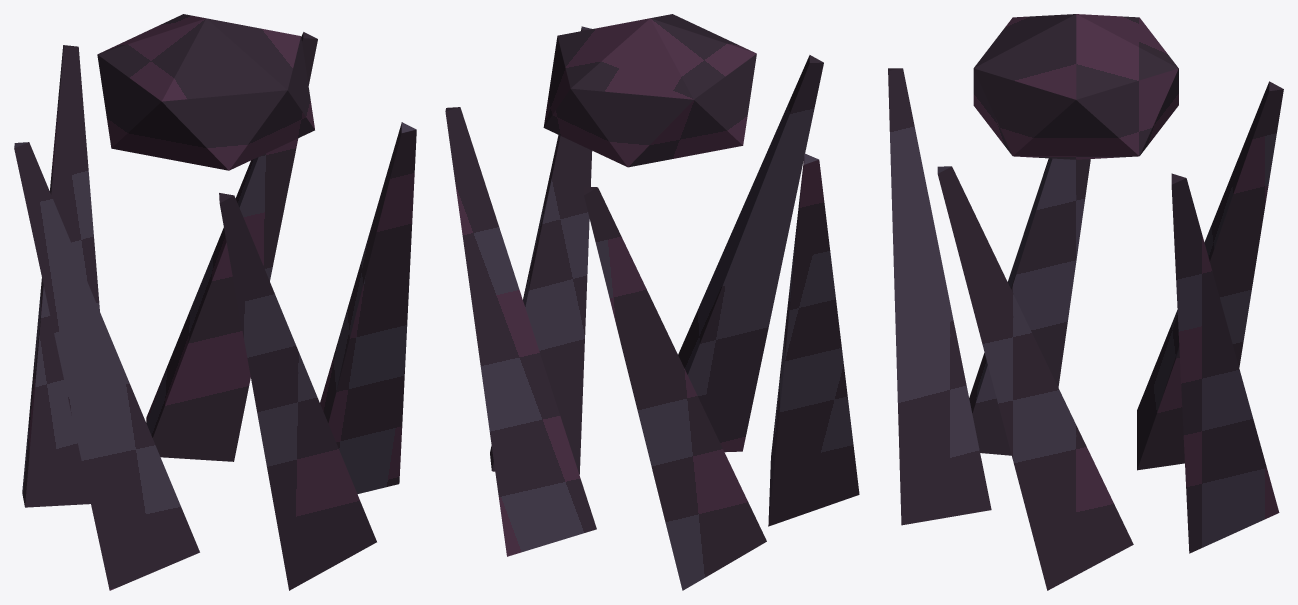
The model's file is r08_rosa_negra.glb.
3 views of the same model, side by side, from view 1: azimuth 30°, elevation 25°; view 2: azimuth 150°, elevation 25°; view 3: azimuth 270°, elevation 25° (orthographic). The views are drawn at different scales.
Parts seen in each view (by area): view 1: r08_rosa_negra; view 2: r08_rosa_negra; view 3: r08_rosa_negra.
Part boxes in pixels (left/top/right/bottom): r08_rosa_negra: left=14, top=14, right=416, bottom=590; r08_rosa_negra: left=445, top=14, right=859, bottom=590; r08_rosa_negra: left=888, top=14, right=1283, bottom=590.
Size of the model in its own units: 0.4083 by 0.5473 by 0.3937.
2 materials, 2 textured.
